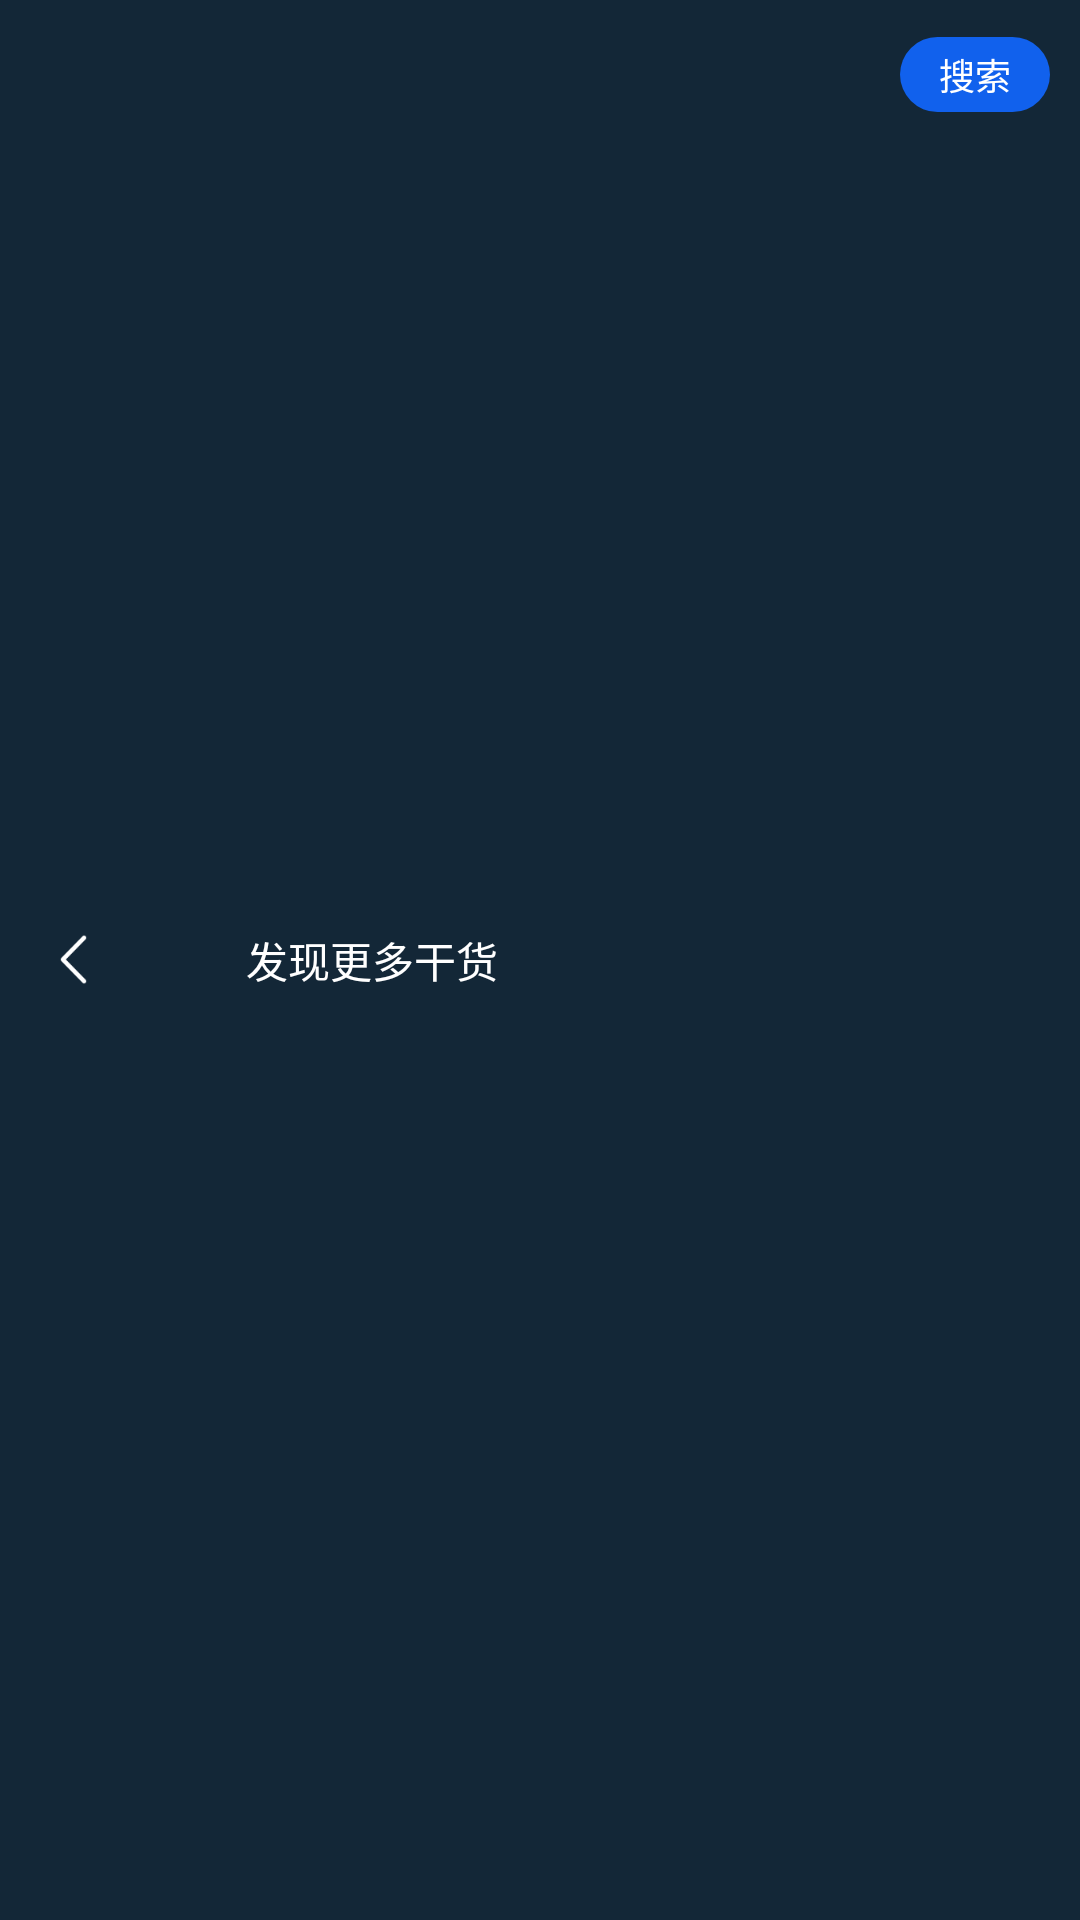

Locate icon controls on the screen. Image size 1080×1920, boxes as box(x1, y1, x2, y2).
left arrow: box(60, 935, 87, 984)
